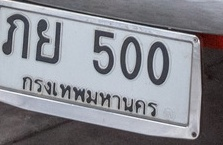txt27: (1, 12, 32, 60)
txt29: (34, 17, 64, 66)
